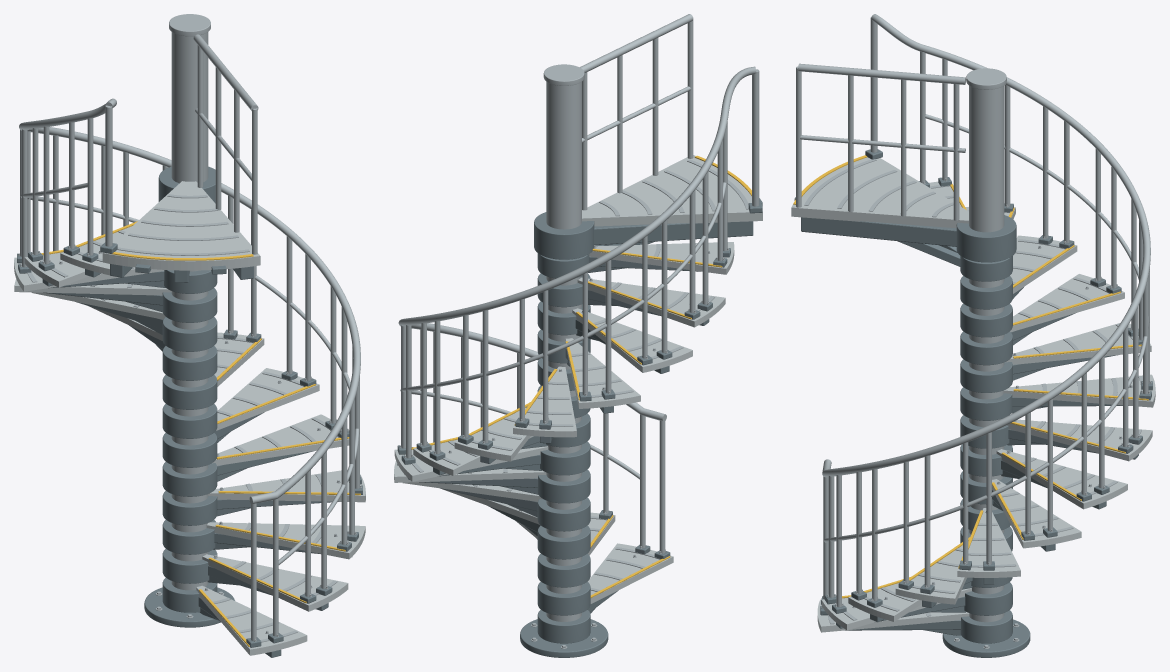
File: city-exterior-spiral-stair.glb
3 views of the same model, side by side, from view 1: azimuth 30°, elevation 25°; view 2: azimuth 150°, elevation 25°; view 3: azimuth 270°, elevation 25° (orthographic). The views are drawn at different scales.
Visible parts, largest first — view 1: Assembly | Satin stainless structural metal, Assembly | Brushed aluminum treads, Assembly | Dark galvanized support steel, Assembly | Warm yellow edge markings; view 2: Assembly | Satin stainless structural metal, Assembly | Dark galvanized support steel, Assembly | Brushed aluminum treads, Assembly | Warm yellow edge markings; view 3: Assembly | Satin stainless structural metal, Assembly | Brushed aluminum treads, Assembly | Dark galvanized support steel, Assembly | Warm yellow edge markings.
Boxes of the visible parts, left/top/right/bottom form: Assembly | Satin stainless structural metal: left=18, top=14, right=361, bottom=642; Assembly | Brushed aluminum treads: left=14, top=181, right=365, bottom=655; Assembly | Dark galvanized support steel: left=17, top=166, right=362, bottom=657; Assembly | Warm yellow edge markings: left=41, top=221, right=360, bottom=646; Assembly | Satin stainless structural metal: left=398, top=14, right=759, bottom=648; Assembly | Dark galvanized support steel: left=397, top=198, right=762, bottom=657; Assembly | Brushed aluminum treads: left=394, top=155, right=762, bottom=603; Assembly | Warm yellow edge markings: left=411, top=155, right=751, bottom=597; Assembly | Satin stainless structural metal: left=796, top=14, right=1151, bottom=648; Assembly | Brushed aluminum treads: left=791, top=157, right=1155, bottom=632; Assembly | Dark galvanized support steel: left=794, top=149, right=1152, bottom=657; Assembly | Warm yellow edge markings: left=793, top=155, right=1148, bottom=598.
Size of the model in its own units: 2.2 by 4.04 by 2.37.
